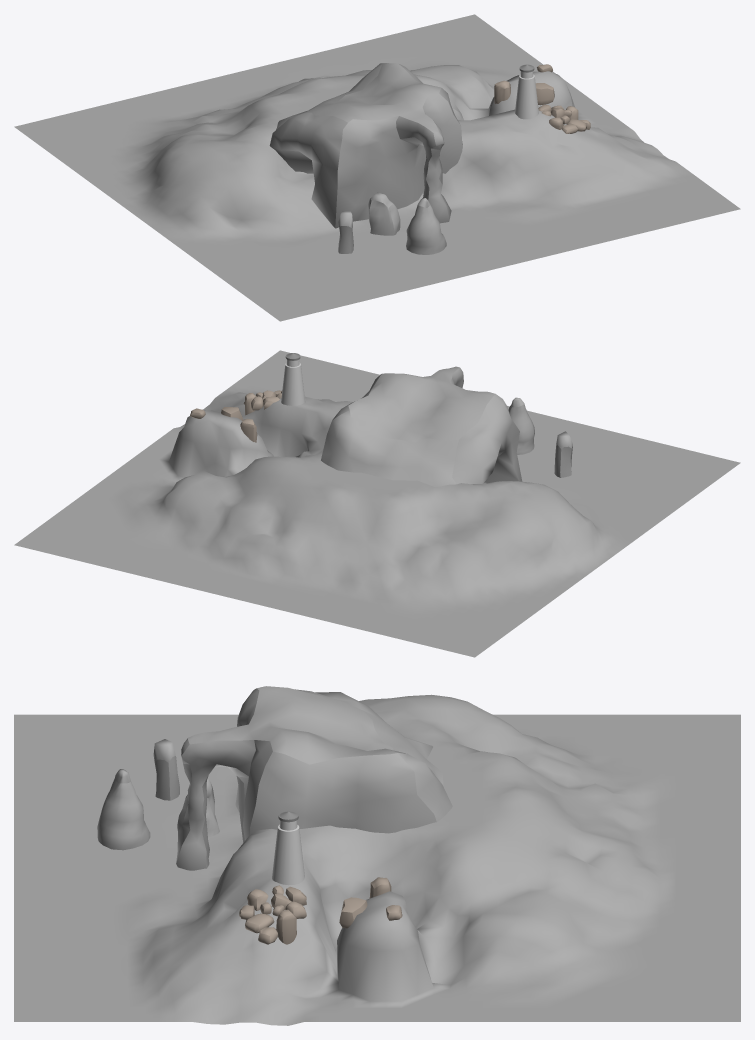
File: Seagull_Island_v4.fbx
3 renders of one model, top to bottom at view 1: azimuth 30°, elevation 25°; view 2: azimuth 150°, elevation 25°; view 3: azimuth 270°, elevation 25°, orthographic. The views are drawn at different scales.
Parts seen in each view (by area): view 1: Sand, cliffs, stalag3, stalag2, lighthouse, stalag1; view 2: Sand, cliffs, lighthouse, stalag3, stalag1; view 3: Sand, cliffs, stalag3, lighthouse, stalag1, stalag2, SeagullStage_v4:pCube14, SeagullStage_v4:pCube7.
Boxes of the visible parts, x1=… form: Sand: x1=14, y1=14, x2=740, y2=321; cliffs: x1=269, y1=63, x2=462, y2=228; stalag3: x1=406, y1=197, x2=446, y2=254; stalag2: x1=368, y1=192, x2=400, y2=235; lighthouse: x1=515, y1=64, x2=538, y2=119; stalag1: x1=338, y1=211, x2=353, y2=253; Sand: x1=14, y1=350, x2=740, y2=657; cliffs: x1=321, y1=366, x2=522, y2=486; lighthouse: x1=281, y1=353, x2=305, y2=405; stalag3: x1=508, y1=397, x2=534, y2=454; stalag1: x1=554, y1=431, x2=572, y2=477; Sand: x1=14, y1=694, x2=740, y2=1025; cliffs: x1=176, y1=686, x2=452, y2=870; stalag3: x1=97, y1=769, x2=150, y2=850; lighthouse: x1=272, y1=811, x2=304, y2=885; stalag1: x1=153, y1=739, x2=179, y2=800; stalag2: x1=177, y1=778, x2=219, y2=837; SeagullStage_v4:pCube14: x1=276, y1=909, x2=296, y2=944; SeagullStage_v4:pCube7: x1=339, y1=897, x2=367, y2=928.
Bounding box in the file's own units: 1168 × 274 × 1168.
